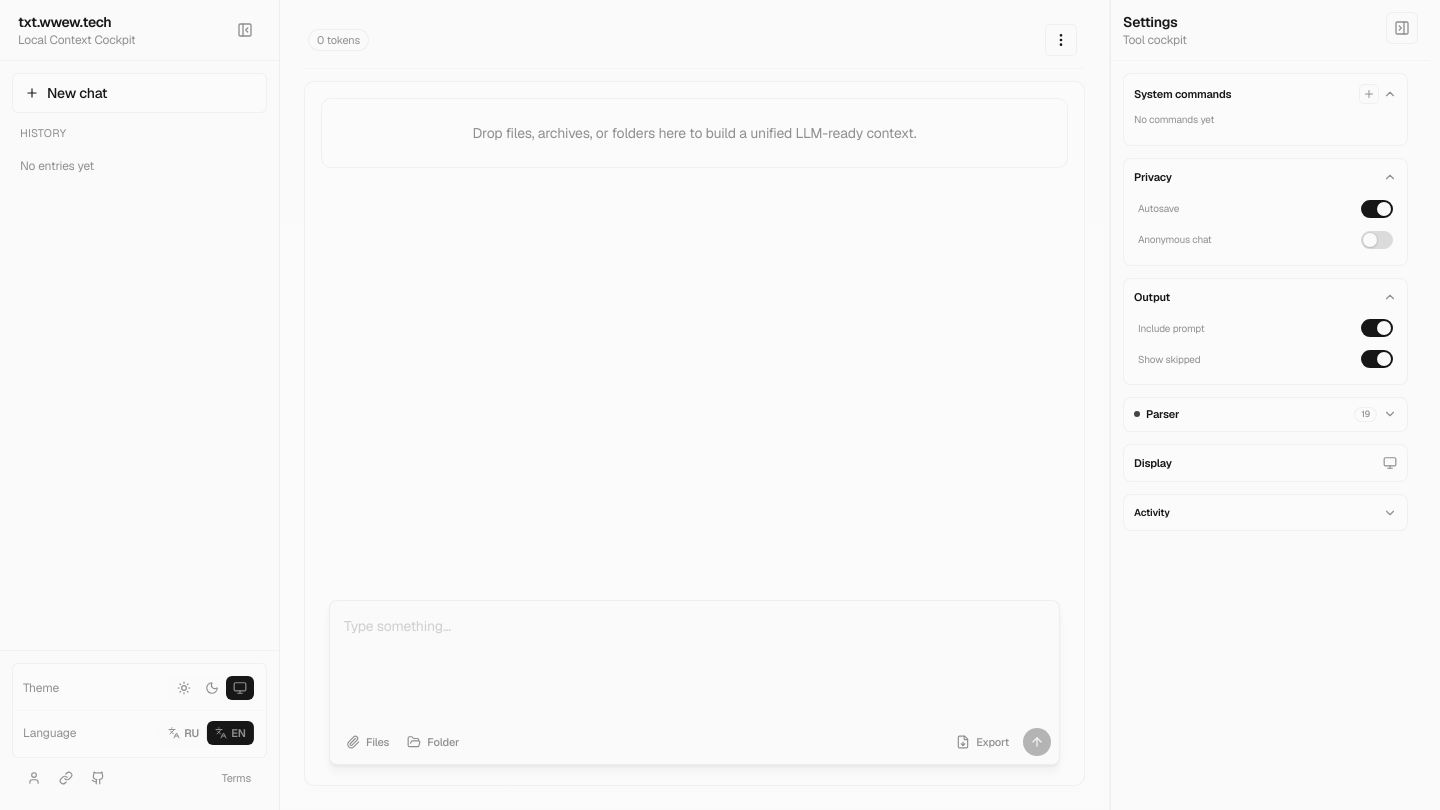
Scenario: System commands panel › adds a command and renders it in the list
Expected: the heading "System commands" is shown, [1134,84,1397,104]
Click the button named "New".
click(1369, 94)  # box [1359,84,1379,104]
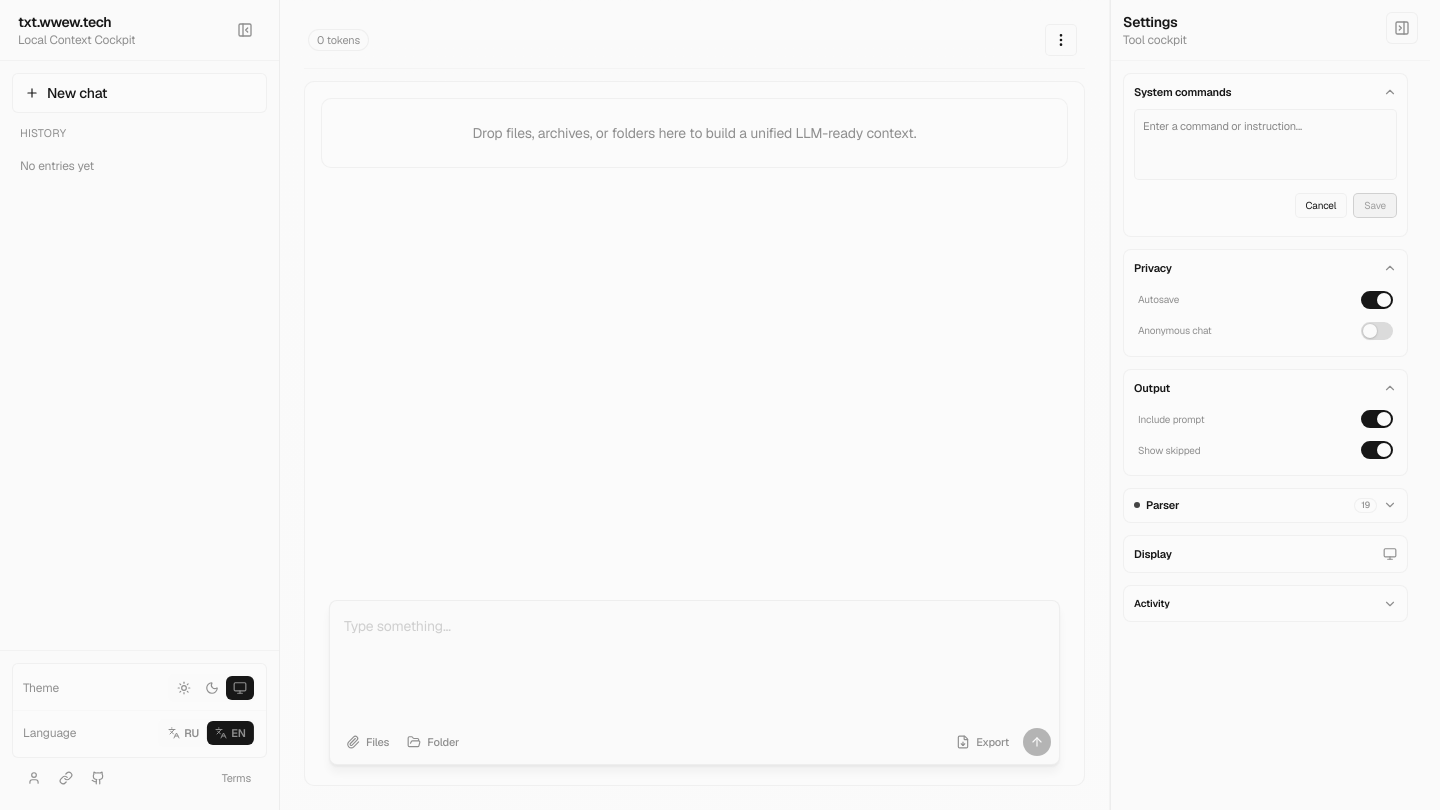
Type "Focus on architecture" into the text box with placeholder "Enter a command or instruction...".
click(1266, 144); type("Focus on architecture")  # box [1134,108,1397,180]
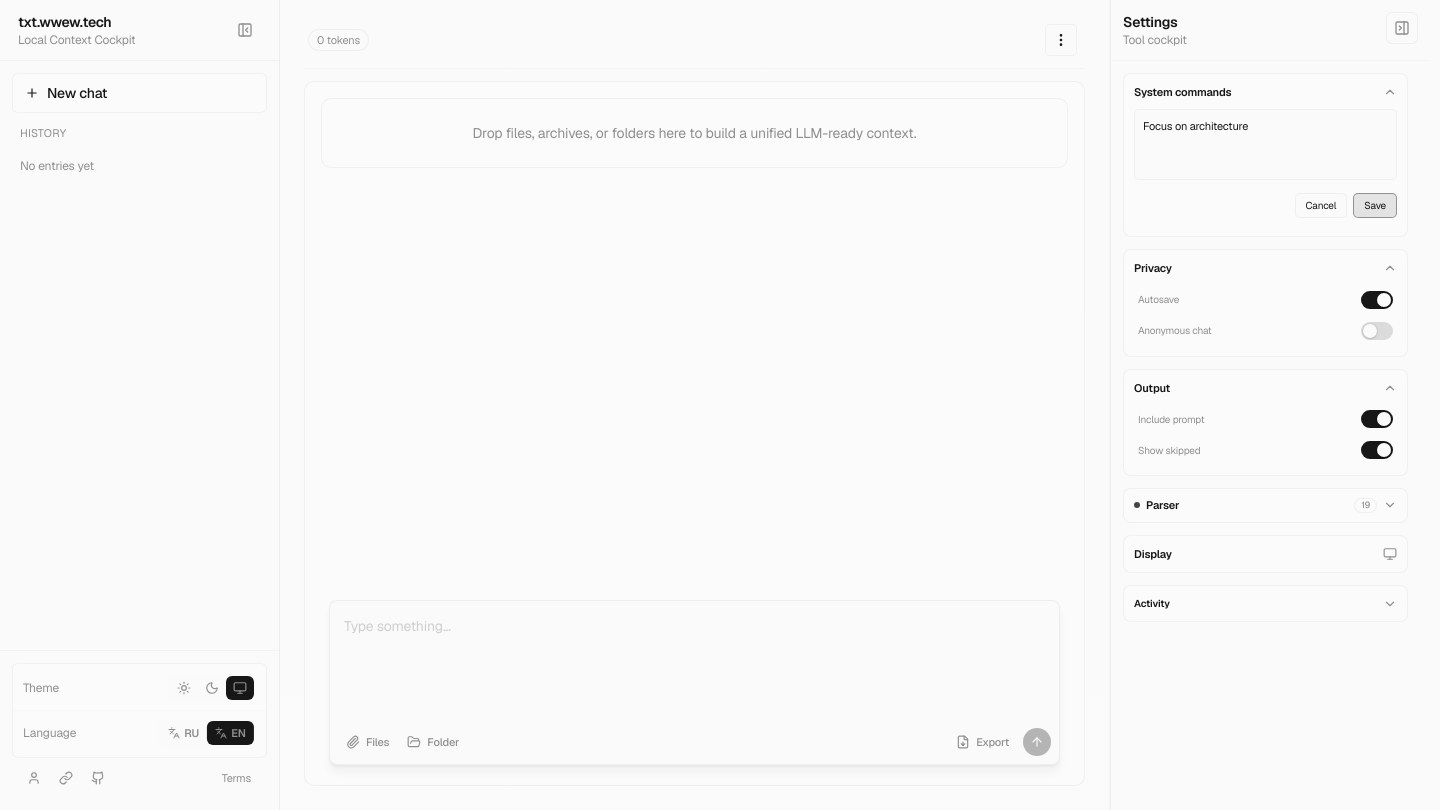
Click the button "Save".
click(1375, 206)  # box [1353,193,1397,218]
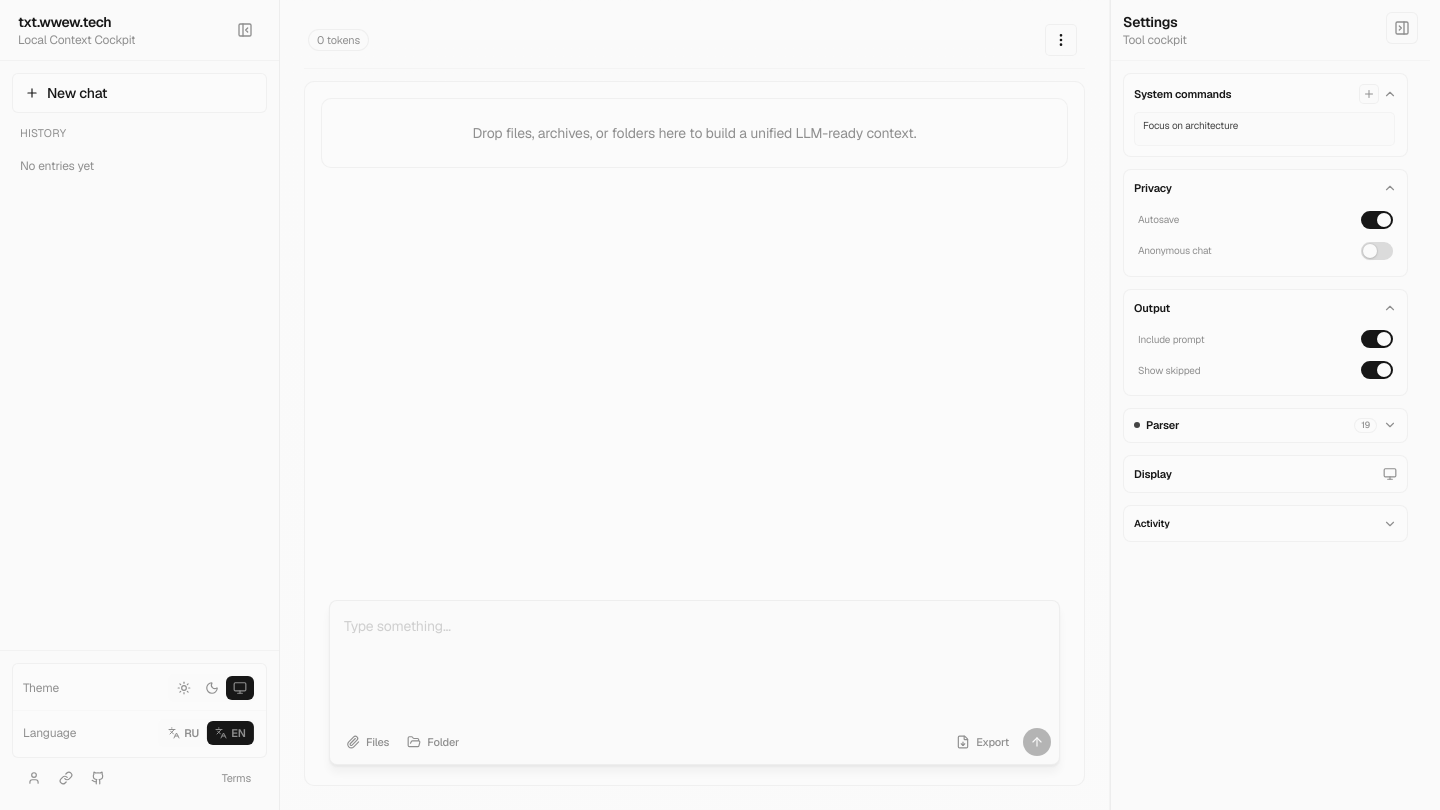
Expected: the text "Focus on architecture" is shown, [1143,119,1238,132]
